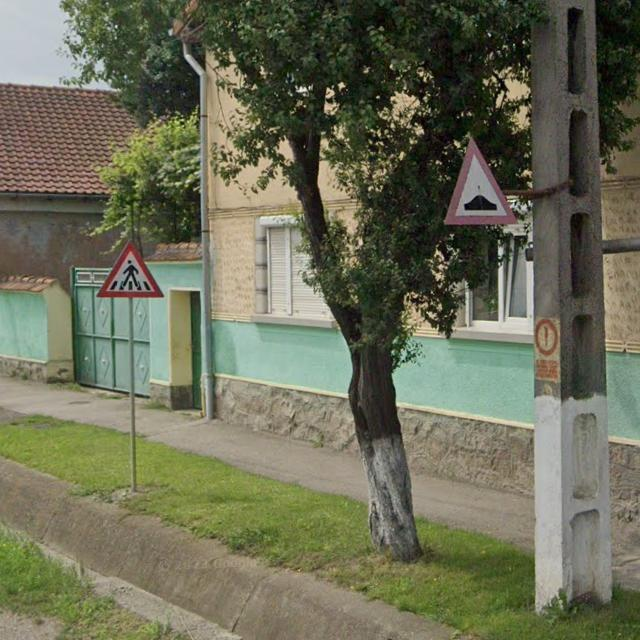warn_crosswalk: (95, 238, 163, 298)
